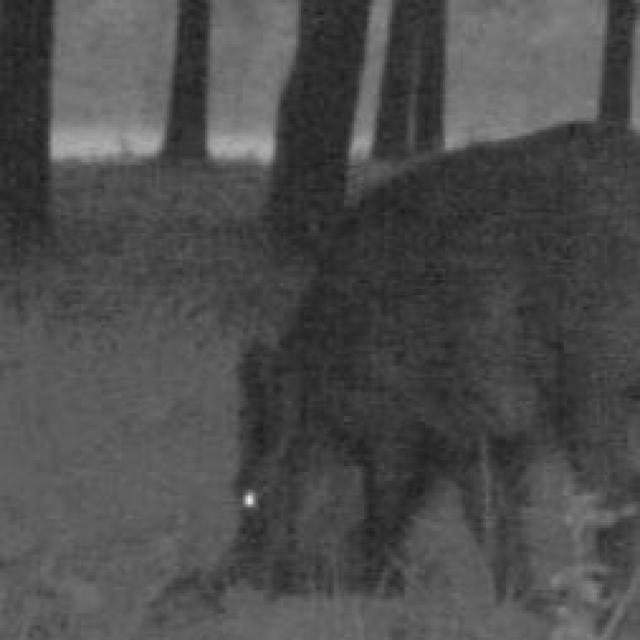pig: (211, 93, 640, 624)
